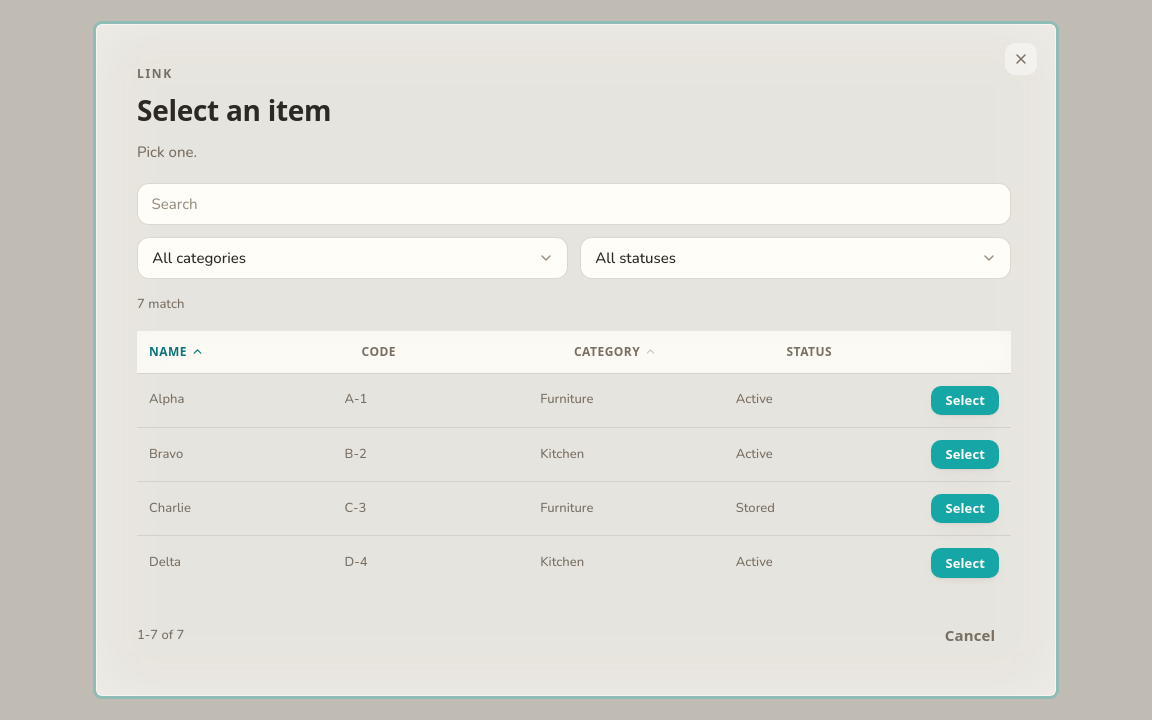
Test: EntitySelectorDialog › debounces search into the query and shows a chip
In the search field named "Search items": (574, 204) [152, 185, 996, 223], type "Fox"
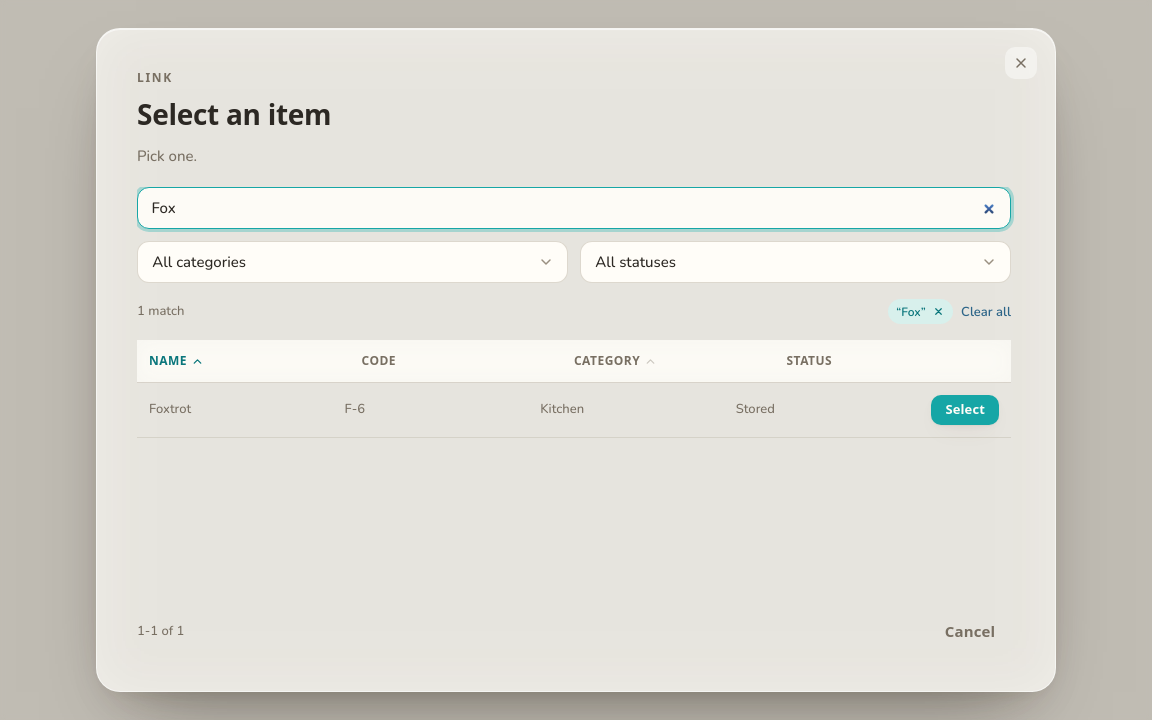
Check: the text "1 match" is shown, box [137, 302, 184, 322]
Check: the text "“Fox”" is shown, box [888, 299, 953, 324]
